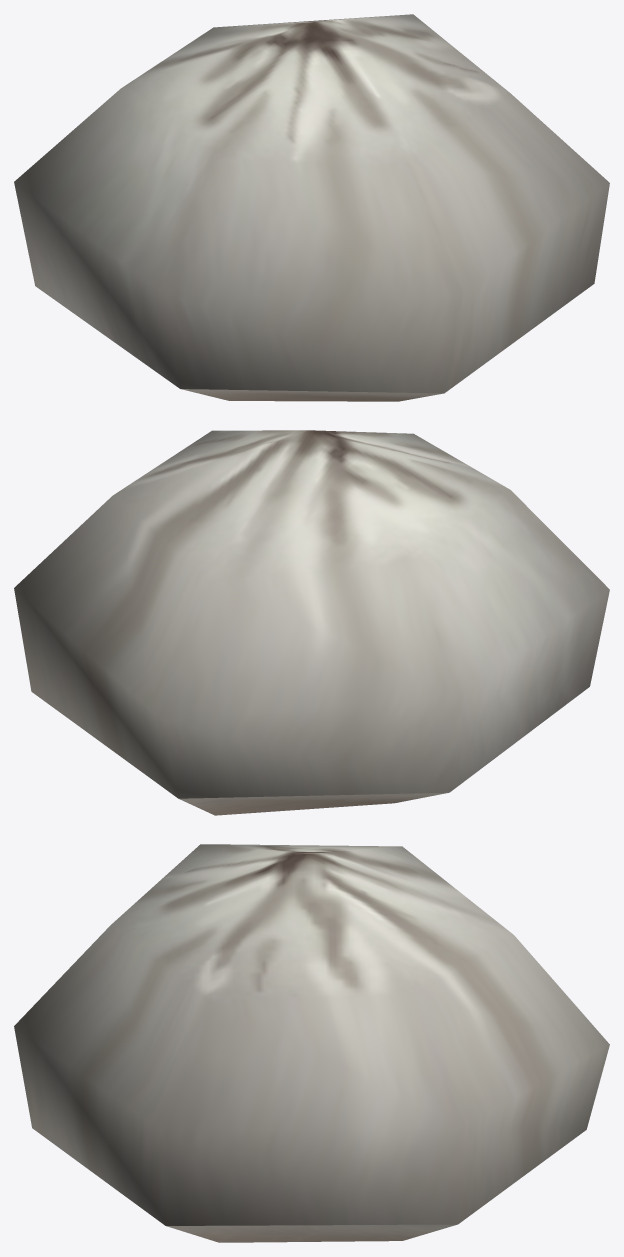
Rendered from Item0102.obj.
The picture shows the model from 3 angles, top to bottom: view 1: azimuth 30°, elevation 25°; view 2: azimuth 150°, elevation 25°; view 3: azimuth 270°, elevation 25°; orthographic projection. The views are drawn at different scales.
Visible parts, largest first — view 1: 0; view 2: 0; view 3: 0.
Boxes of the visible parts, box(x1,y1,x2,y2) form: 0: box(14, 14, 609, 401); 0: box(14, 430, 609, 815); 0: box(14, 844, 609, 1242).
Size of the model in its own units: 8.23 by 5.6 by 9.26.
